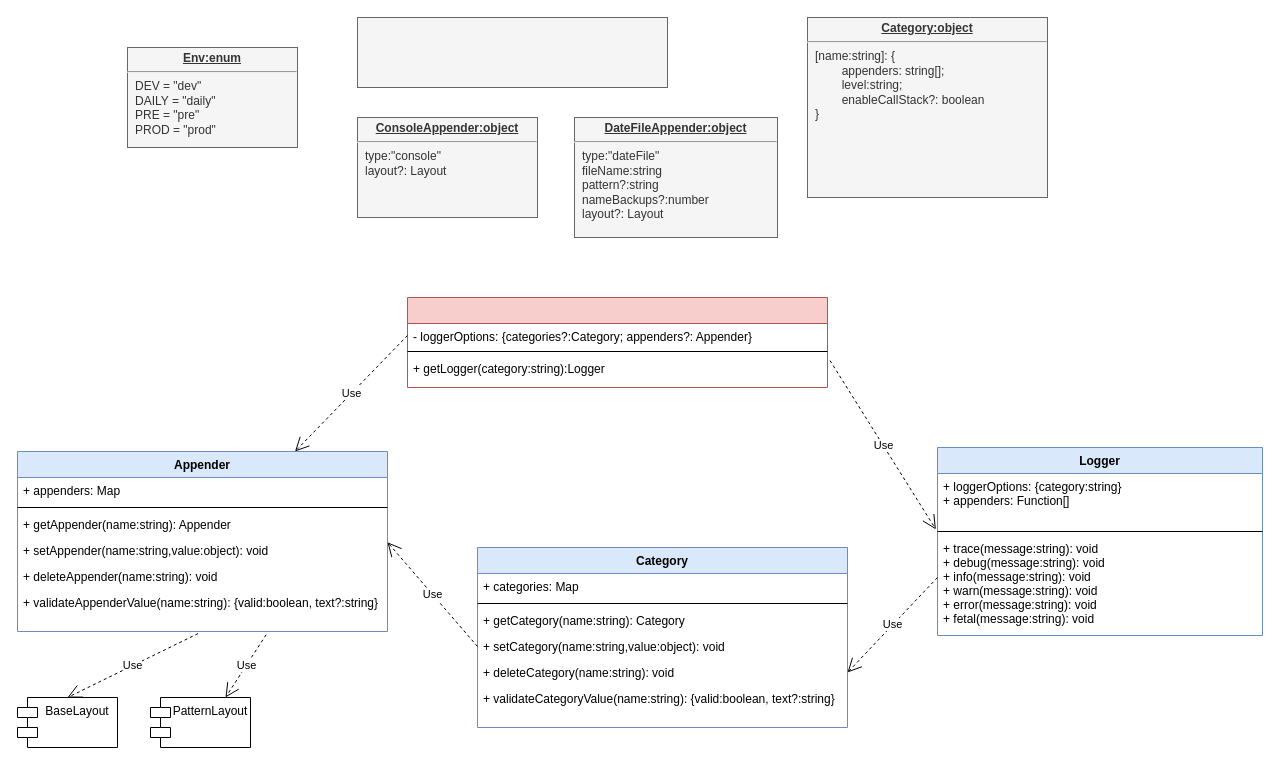
Some shapes in this 1280 by 765 pixel diagram are drawn without their labels. Each missing label, with the box of its shape:
Appender:object [name:string]: ConsoleAppender | DateFileAppender: (356, 16, 668, 88)
MidLog: (406, 296, 828, 388)
